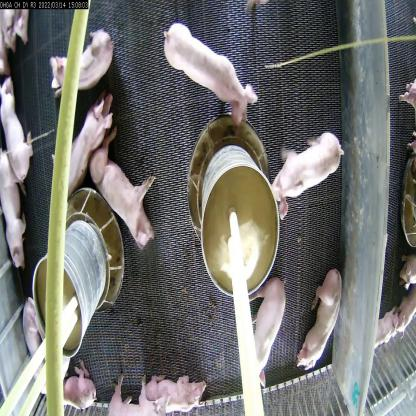Pig: (161, 5, 249, 121), (86, 132, 151, 247), (60, 94, 116, 198), (265, 126, 334, 210), (47, 16, 112, 88), (242, 280, 282, 396), (134, 356, 211, 416), (36, 348, 95, 415), (0, 84, 39, 184), (300, 271, 334, 362), (0, 159, 23, 262), (108, 378, 162, 416)
